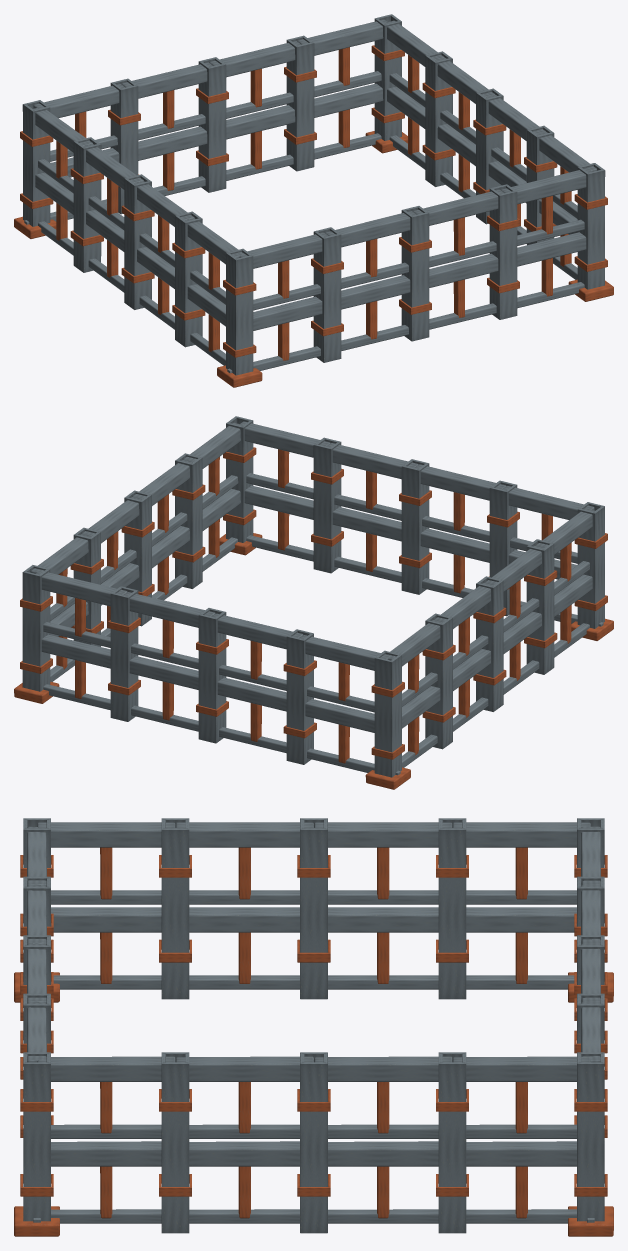
3 renders of one model, top to bottom at view 1: azimuth 30°, elevation 25°; view 2: azimuth 150°, elevation 25°; view 3: azimuth 270°, elevation 25°, orthographic. The views are drawn at different scales.
Visible parts, largest first — view 1: Tier 0 side 0 post 0, Tier 0 side 0 post 3, Tier 0 side 2 post 2, Tier 0 side 2 post 1, Tier 0 side 0 post 2, Tier 0 side 0 post 1, Tier 0 side 1 post 0, Tier 0 side 3 post 1, Tier 0 side 3 post 2, Tier 0 side 1 post 3, Tier 0 side 3 post 3, Tier 0 side 3 post 0 (+48 smaller); view 2: Tier 0 side 3 post 0, Tier 0 side 0 post 3, Tier 0 side 2 post 2, Tier 0 side 2 post 1, Tier 0 side 0 post 2, Tier 0 side 2 post 3, Tier 0 side 2 post 0, Tier 0 side 3 post 3, Tier 0 side 1 post 1, Tier 0 side 3 post 2, Tier 0 side 3 post 1, Tier 0 side 0 post 0 (+48 smaller); view 3: Tier 0 side 1 post 3, Tier 0 side 1 post 1, Tier 0 side 3 post 1, Tier 0 side 3 post 3, Tier 0 side 1 post 2, Tier 0 side 3 post 2, Tier 0 side 2 post 0, Tier 0 side 1 post 0, Tier 0 bay 3-1-1 box girder, Tier 0 bay 3-1-2 box girder, Tier 0 bay 3-1-3 box girder, Tier 0 bay 3-1-0 box girder (+62 smaller).
Part boxes in pixels (x1=…): Tier 0 side 0 post 0: x1=226, y1=248, x2=253, y2=375; Tier 0 side 0 post 3: x1=489, y1=184, x2=517, y2=319; Tier 0 side 2 post 2: x1=198, y1=57, x2=226, y2=192; Tier 0 side 2 post 1: x1=286, y1=35, x2=314, y2=171; Tier 0 side 0 post 2: x1=401, y1=206, x2=429, y2=341; Tier 0 side 0 post 1: x1=313, y1=227, x2=341, y2=362; Tier 0 side 1 post 0: x1=577, y1=163, x2=605, y2=289; Tier 0 side 3 post 1: x1=73, y1=137, x2=101, y2=272; Tier 0 side 3 post 2: x1=124, y1=174, x2=151, y2=309; Tier 0 side 1 post 3: x1=425, y1=51, x2=452, y2=186; Tier 0 side 3 post 3: x1=175, y1=211, x2=202, y2=347; Tier 0 side 3 post 0: x1=22, y1=100, x2=50, y2=226; Tier 0 side 3 post 0: x1=374, y1=650, x2=401, y2=777; Tier 0 side 0 post 3: x1=313, y1=437, x2=341, y2=573; Tier 0 side 2 post 2: x1=198, y1=608, x2=226, y2=743; Tier 0 side 2 post 1: x1=110, y1=586, x2=138, y2=721; Tier 0 side 0 post 2: x1=401, y1=459, x2=429, y2=594; Tier 0 side 2 post 3: x1=286, y1=629, x2=313, y2=764; Tier 0 side 2 post 0: x1=22, y1=565, x2=50, y2=691; Tier 0 side 3 post 3: x1=526, y1=539, x2=554, y2=674; Tier 0 side 1 post 1: x1=175, y1=453, x2=202, y2=588; Tier 0 side 3 post 2: x1=476, y1=576, x2=503, y2=711; Tier 0 side 3 post 1: x1=425, y1=613, x2=452, y2=749; Tier 0 side 0 post 0: x1=577, y1=502, x2=604, y2=628; Tier 0 side 1 post 3: x1=438, y1=1052, x2=466, y2=1233; Tier 0 side 1 post 1: x1=161, y1=1052, x2=189, y2=1233; Tier 0 side 3 post 1: x1=438, y1=818, x2=466, y2=999; Tier 0 side 3 post 3: x1=161, y1=818, x2=189, y2=999; Tier 0 side 1 post 2: x1=300, y1=1052, x2=327, y2=1233; Tier 0 side 3 post 2: x1=300, y1=818, x2=327, y2=999; Tier 0 side 2 post 0: x1=577, y1=1052, x2=604, y2=1221; Tier 0 side 1 post 0: x1=23, y1=1052, x2=50, y2=1221; Tier 0 bay 3-1-1 box girder: x1=314, y1=822, x2=452, y2=847; Tier 0 bay 3-1-2 box girder: x1=175, y1=822, x2=313, y2=847; Tier 0 bay 3-1-3 box girder: x1=37, y1=822, x2=175, y2=847; Tier 0 bay 3-1-0 box girder: x1=452, y1=822, x2=590, y2=847.
Size of the model in its own units: 1.95 by 0.6083 by 1.95.
Materials: 2 (2 with a texture image).
